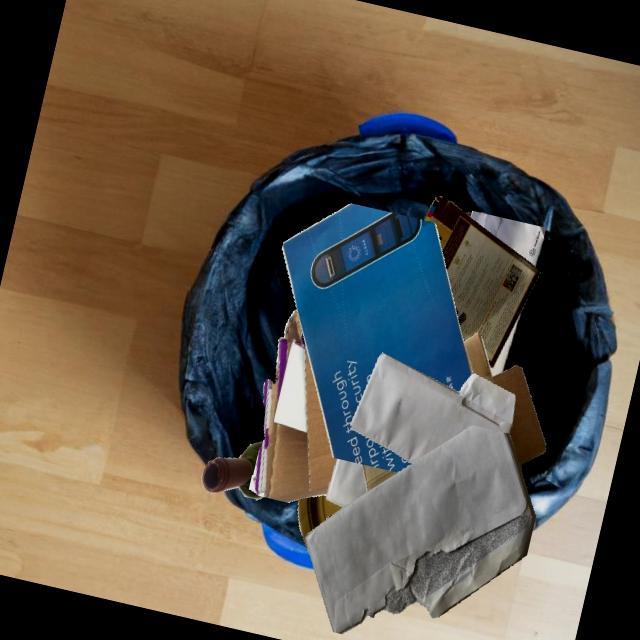biowaste: (502, 370, 503, 372)
cardboard: (423, 196, 540, 367), (248, 309, 337, 502), (463, 332, 545, 473)
glass: (201, 441, 262, 500), (325, 514, 331, 520)
paper: (281, 203, 472, 472), (305, 425, 535, 634), (350, 352, 515, 463), (470, 210, 545, 267), (297, 495, 342, 553), (325, 458, 367, 507)
plastic: (478, 212, 493, 215), (464, 212, 471, 217)
